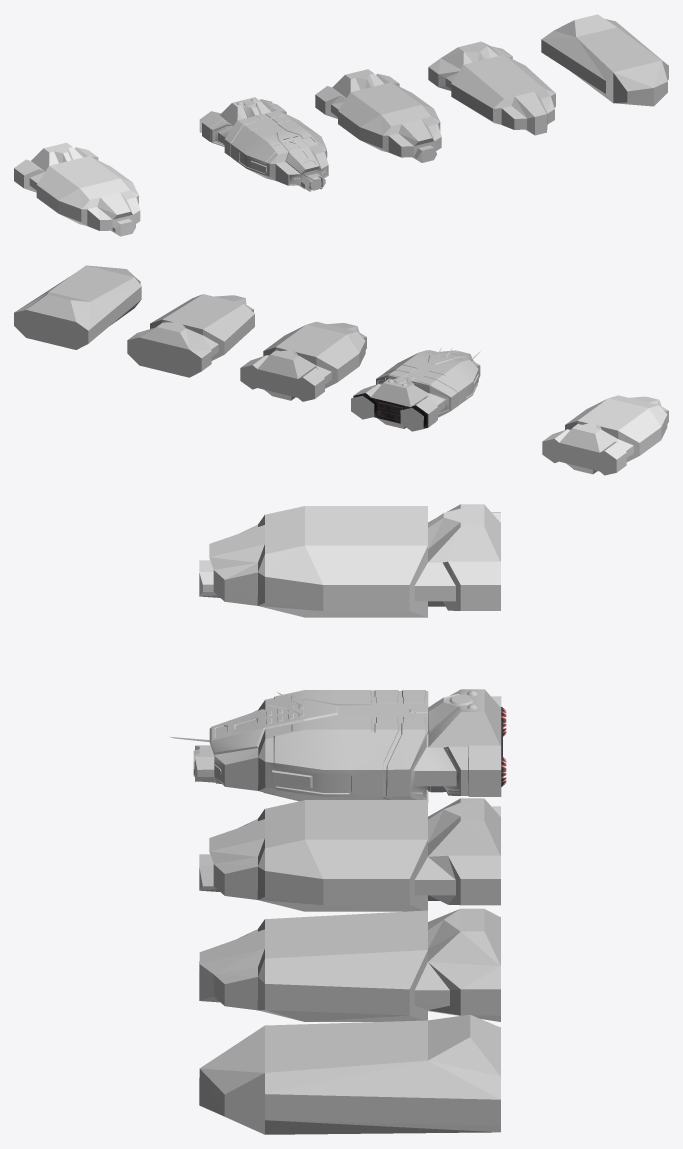
Rendered from bst_fighter.dae.
3 views of the same model, one above another, from view 1: azimuth 30°, elevation 25°; view 2: azimuth 150°, elevation 25°; view 3: azimuth 270°, elevation 25° (orthographic). The views are drawn at different scales.
Parts seen in each view (by area): view 1: MULT[P1Fighter]_LOD[0], MULT[P1Fighter]_LOD[3], COL[Root], MULT[P1Fighter]_LOD[1], MULT[P1Fighter]_LOD[2]; view 2: MULT[P1Fighter]_LOD[3], MULT[P1Fighter]_LOD[2], COL[Root], MULT[P1Fighter]_LOD[1], MULT[P1Fighter]_LOD[0], ETSH[EngineShape2], ETSH[EngineShape1]; view 3: MULT[P1Fighter]_LOD[3], MULT[P1Fighter]_LOD[0], MULT[P1Fighter]_LOD[1], COL[Root], MULT[P1Fighter]_LOD[2].
Part boxes in pixels (x1=…): MULT[P1Fighter]_LOD[0]: x1=202, y1=97, x2=328, y2=191; MULT[P1Fighter]_LOD[3]: x1=541, y1=14, x2=668, y2=106; COL[Root]: x1=14, y1=142, x2=140, y2=236; MULT[P1Fighter]_LOD[1]: x1=315, y1=69, x2=441, y2=162; MULT[P1Fighter]_LOD[2]: x1=428, y1=41, x2=555, y2=135; MULT[P1Fighter]_LOD[3]: x1=14, y1=265, x2=141, y2=349; MULT[P1Fighter]_LOD[2]: x1=127, y1=294, x2=254, y2=377; COL[Root]: x1=542, y1=395, x2=668, y2=475; MULT[P1Fighter]_LOD[1]: x1=240, y1=321, x2=366, y2=401; MULT[P1Fighter]_LOD[0]: x1=353, y1=347, x2=480, y2=428; ETSH[EngineShape2]: x1=400, y1=408, x2=423, y2=431; ETSH[EngineShape1]: x1=351, y1=395, x2=374, y2=419; MULT[P1Fighter]_LOD[3]: x1=199, y1=1014, x2=500, y2=1134; MULT[P1Fighter]_LOD[0]: x1=169, y1=689, x2=506, y2=802; MULT[P1Fighter]_LOD[1]: x1=199, y1=798, x2=500, y2=911; COL[Root]: x1=199, y1=504, x2=500, y2=617; MULT[P1Fighter]_LOD[2]: x1=199, y1=908, x2=500, y2=1021.
Bounding box in the file's own units: 97.35 × 7.03 × 24.26.
